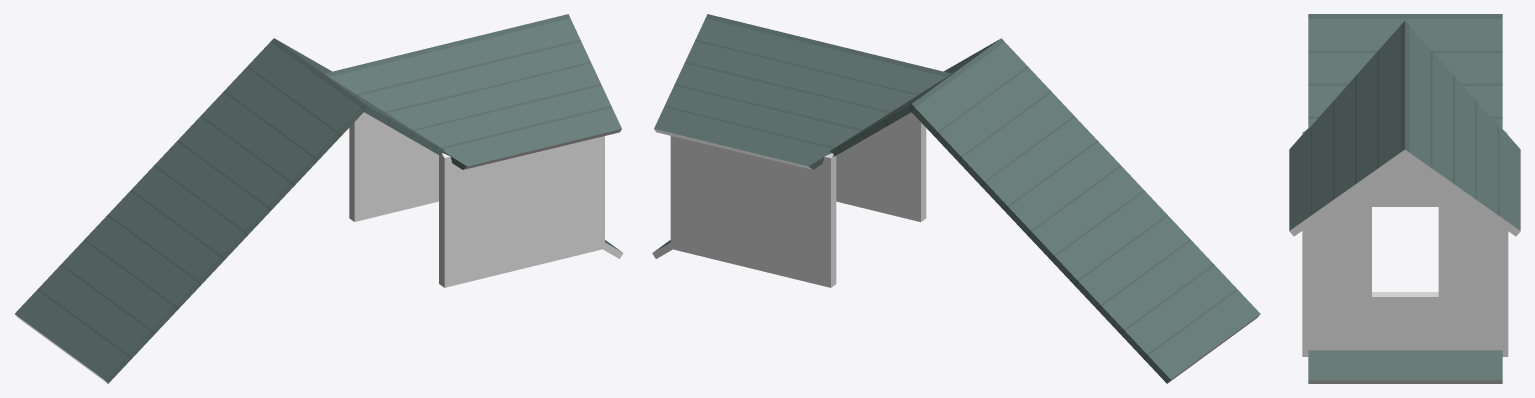
File: Roof2_C6_04.fbx
3 views of the same model, side by side, from view 1: azimuth 30°, elevation 25°; view 2: azimuth 150°, elevation 25°; view 3: azimuth 270°, elevation 25° (orthographic). The views are drawn at different scales.
Parts seen in each view (by area): view 1: Roof2_C6_04; view 2: Roof2_C6_04; view 3: Roof2_C6_04.
Part boxes in pixels (x1,y1,x2,y2): Roof2_C6_04: [15, 14, 623, 383]; Roof2_C6_04: [652, 14, 1260, 383]; Roof2_C6_04: [1289, 14, 1520, 383].
Size of the model in its own units: 833 by 334 by 298.
